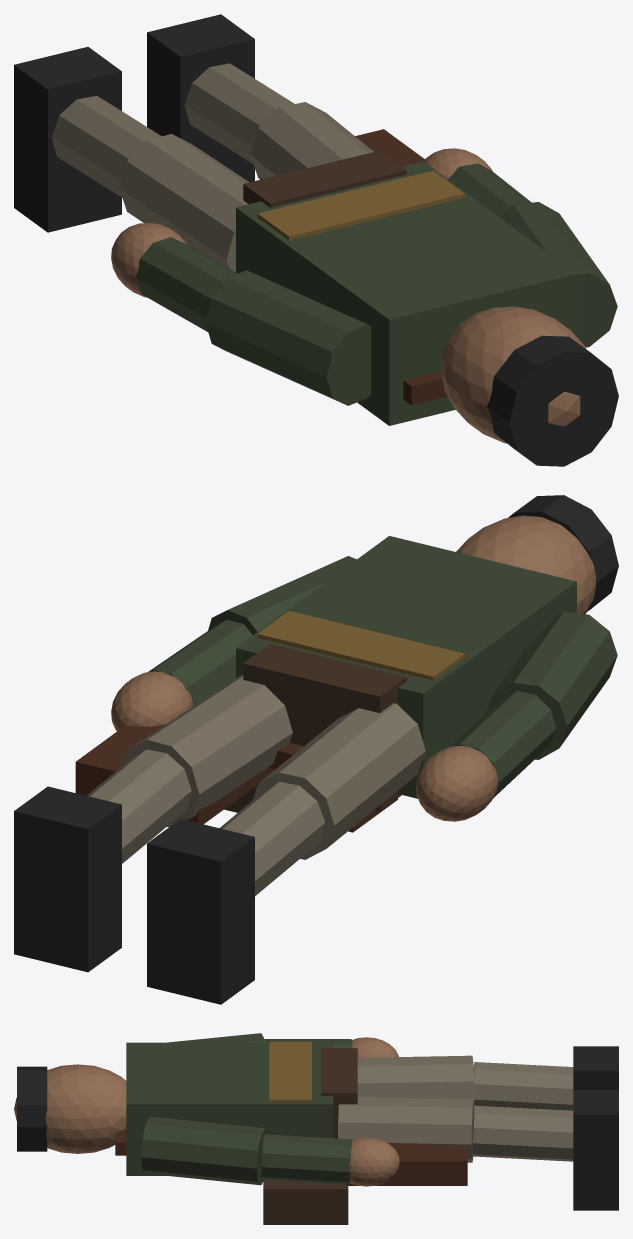
Rendered from SM_CharacterMerchant_Preview.obj.
3 views of the same model, one above another, from view 1: azimuth 30°, elevation 25°; view 2: azimuth 150°, elevation 25°; view 3: azimuth 270°, elevation 25° (orthographic). The views are drawn at different scales.
Bounding box in the file's own units: 0.95 × 0.39 × 1.99.
